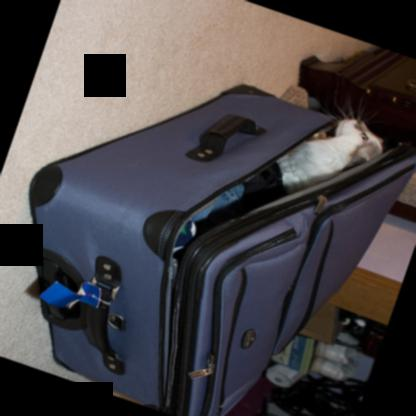suitcase: (27, 85, 416, 416)
